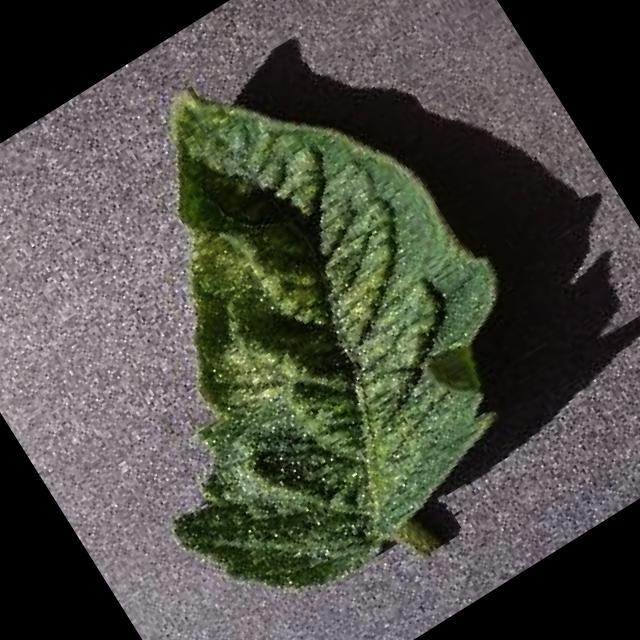Tomato spider mites leaf: (0, 1, 586, 640)
